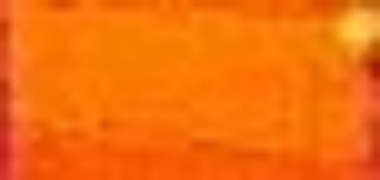Hotspot: (338, 5, 380, 60)
